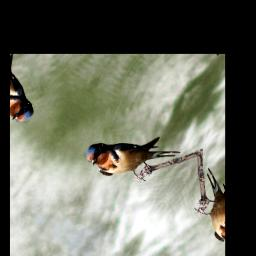Swallow: (77, 112, 182, 201)
